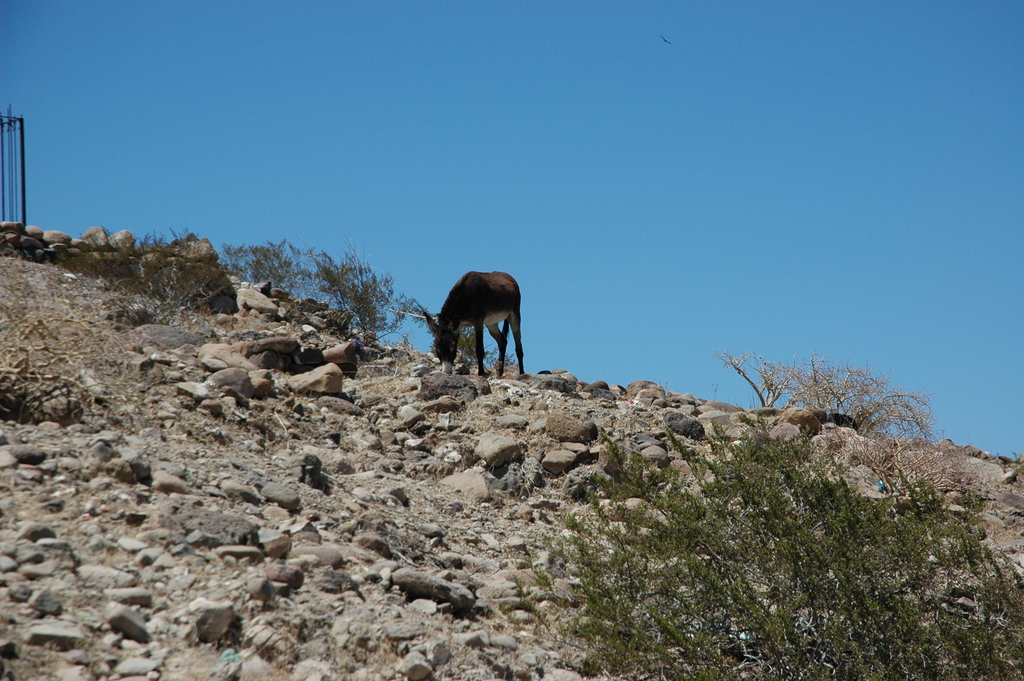Animal: (412, 269, 525, 369)
